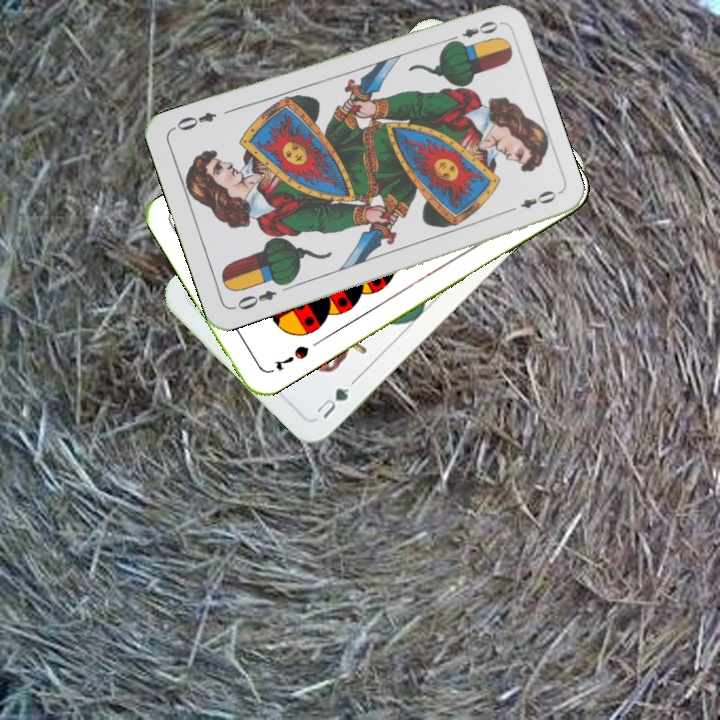EO: (444, 17, 501, 46), (229, 286, 279, 313)
GU: (312, 384, 352, 422)
S7: (271, 341, 312, 373)
